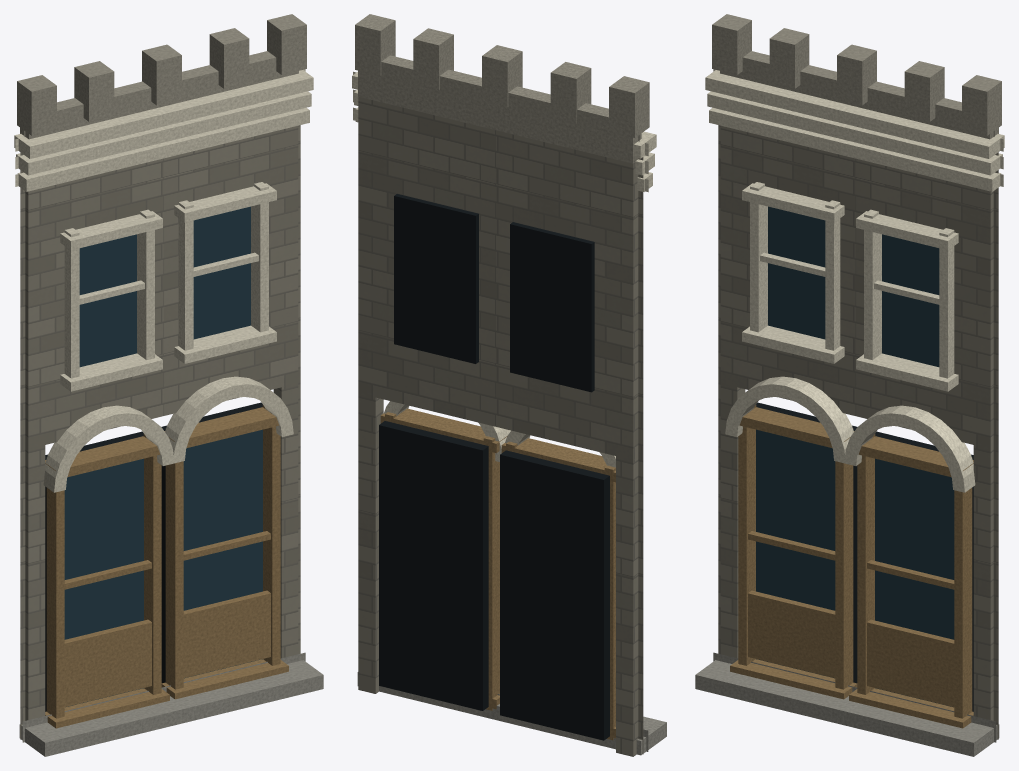
File: CLSTGA21_lod2.glb
The picture shows the model from 3 angles, left to right: view 1: azimuth 30°, elevation 25°; view 2: azimuth 150°, elevation 25°; view 3: azimuth 330°, elevation 25°; orthographic projection.
Visible parts, largest first — view 1: CLSTGA21_FRONT_LOD2; view 2: CLSTGA21_FRONT_LOD2; view 3: CLSTGA21_FRONT_LOD2.
Part boxes in pixels (x1,y1,x2,y2): CLSTGA21_FRONT_LOD2: (14, 14, 323, 756); CLSTGA21_FRONT_LOD2: (352, 14, 666, 756); CLSTGA21_FRONT_LOD2: (695, 14, 1004, 756).
Bounding box in the file's own units: 3.44 × 7.4 × 0.68.
8 materials, 6 textured.
